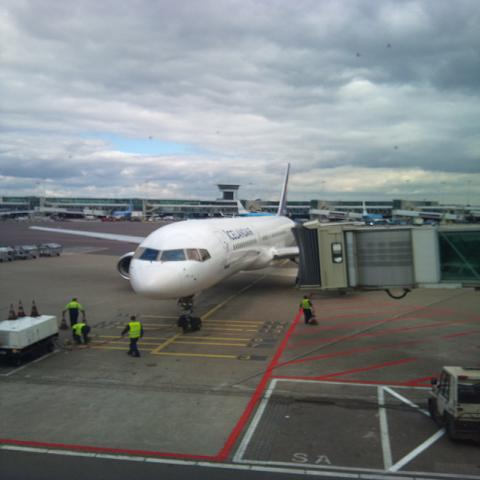car: (10, 244, 42, 260), (156, 214, 183, 222), (101, 216, 121, 222), (126, 216, 144, 222), (85, 216, 95, 220)
truck: (424, 364, 477, 444), (0, 245, 38, 262), (37, 244, 63, 256)
